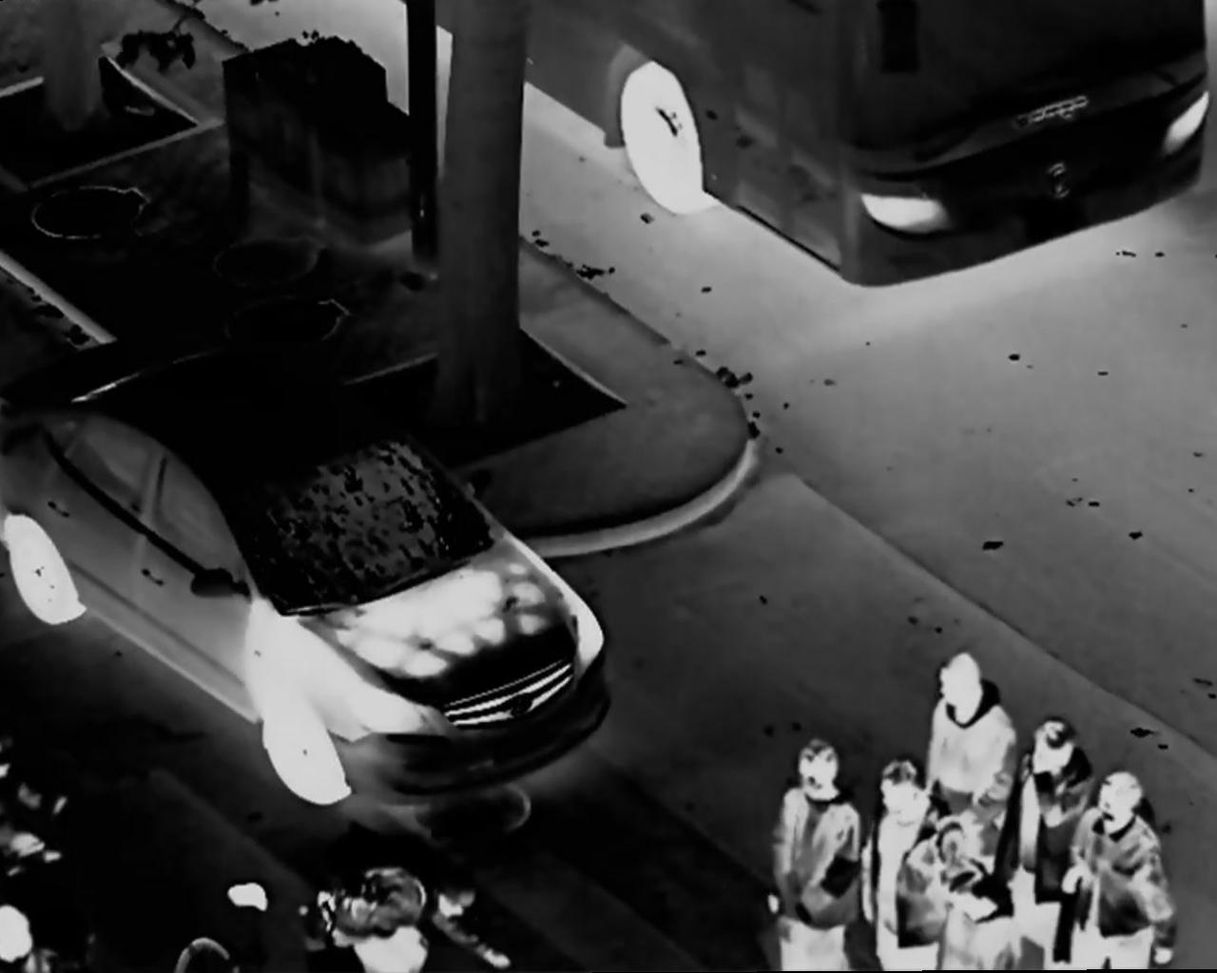person: (1082, 761, 1201, 967), (1010, 718, 1105, 973), (306, 860, 512, 973), (763, 729, 854, 973), (863, 754, 949, 971), (924, 650, 1023, 820)
